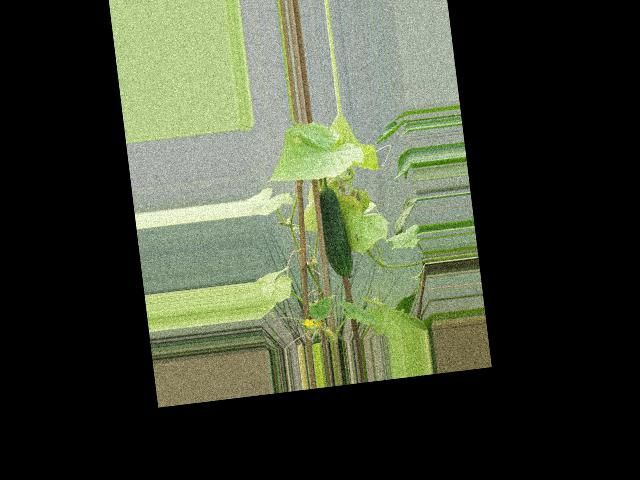cucumber: (317, 185, 354, 280)
